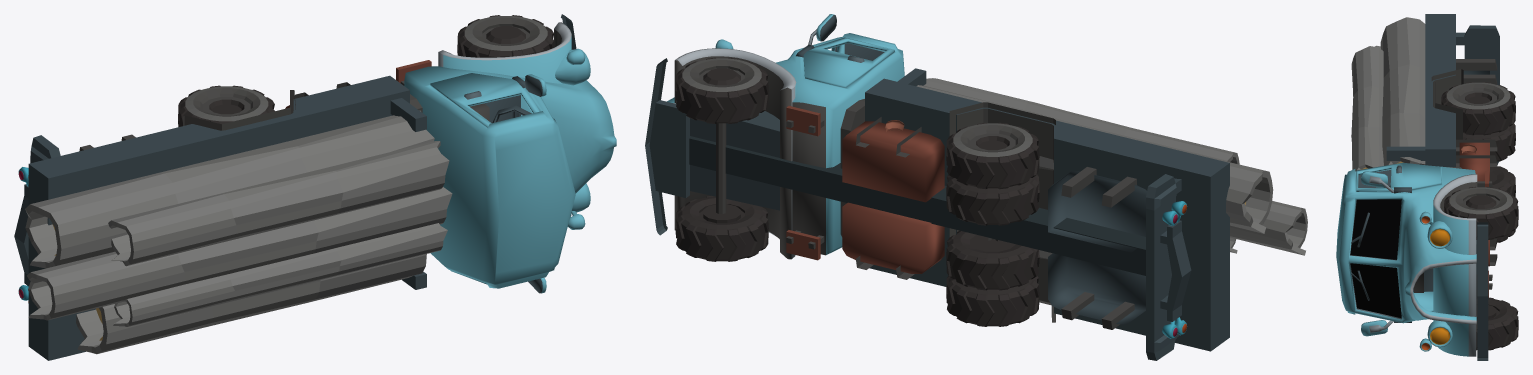
The model's file is log-truck.glb.
The picture shows the model from 3 angles, left to right: view 1: azimuth 30°, elevation 25°; view 2: azimuth 150°, elevation 25°; view 3: azimuth 270°, elevation 25°; orthographic projection. The views are drawn at different scales.
Visible parts, largest first — view 1: Truck_body.001_Metal_0, Truck_Trailler1_Rough_0, Prop2_Rough_0_log2, Prop2_Rough_0_log5, Prop2_Rough_0_log3, Prop2_Rough_0_log4, Prop2_Rough_0_log1, Truck_Wheel_Front.left.001_Rough_0, Truck_Door.left.001_Metal_0, Truck_Wheel_Back.001_Rough_0, Truck_Bumper.001_Metal_0, Truck_body.001_Rough_0 (+2 smaller); view 2: Truck_Trailler1_Rough_0, Truck_Wheel_Back.001_Rough_0, Truck_Chassy_Short.001_Rough_0, TruckModule_OilTank.001_Metal_0, Truck_Engine.001_Metal_0, Truck_body.001_Metal_0, TruckModule_Laggage.001_Metal_0, Truck_body.001_Rough_0, Truck_Bumper.001_Metal_0, Truck_Wheel_Front.right.001_Rough_0, Truck_Wheel_Front.left.001_Rough_0, Prop2_Rough_0_log5 (+7 smaller); view 3: Truck_body.001_Metal_0, Prop2_Rough_0_log2, Truck_body.001_Glass_0, Truck_Trailler1_Rough_0, Truck_Wheel_Back.001_Rough_0, Prop2_Rough_0_log5, Truck_Wheel_Front.left.001_Rough_0, Truck_body.001_Rough_0, Truck_Engine.001_Metal_0, Truck_Door.left.001_Metal_0, Truck_Wheel_Front.right.001_Rough_0, Truck_Bumper.001_Metal_0 (+9 smaller).
Part boxes in pixels (<box>): Truck_body.001_Metal_0: <box>396,22,616,293</box>; Truck_Trailler1_Rough_0: <box>28,75,426,360</box>; Prop2_Rough_0_log2: <box>25,110,434,268</box>; Prop2_Rough_0_log5: <box>108,141,449,266</box>; Prop2_Rough_0_log3: <box>27,187,452,320</box>; Prop2_Rough_0_log4: <box>113,223,447,326</box>; Prop2_Rough_0_log1: <box>76,254,426,354</box>; Truck_Wheel_Front.left.001_Rough_0: <box>457,15,554,57</box>; Truck_Door.left.001_Metal_0: <box>430,73,539,127</box>; Truck_Wheel_Back.001_Rough_0: <box>178,85,274,127</box>; Truck_Bumper.001_Metal_0: <box>14,135,60,303</box>; Truck_body.001_Rough_0: <box>470,29,561,293</box>; Truck_Trailler1_Rough_0: <box>865,68,1229,351</box>; Truck_Wheel_Back.001_Rough_0: <box>946,122,1039,326</box>; Truck_Chassy_Short.001_Rough_0: <box>689,99,1145,275</box>; TruckModule_OilTank.001_Metal_0: <box>842,121,944,273</box>; Truck_Engine.001_Metal_0: <box>645,58,779,235</box>; Truck_body.001_Metal_0: <box>667,15,904,260</box>; TruckModule_Laggage.001_Metal_0: <box>1048,171,1146,324</box>; Truck_body.001_Rough_0: <box>674,14,884,259</box>; Truck_Bumper.001_Metal_0: <box>1146,174,1191,360</box>; Truck_Wheel_Front.right.001_Rough_0: <box>675,196,768,261</box>; Truck_Wheel_Front.left.001_Rough_0: <box>675,57,768,123</box>; Prop2_Rough_0_log5: <box>924,78,1239,164</box>; Truck_body.001_Metal_0: <box>1336,166,1492,356</box>; Prop2_Rough_0_log2: <box>1380,17,1425,165</box>; Truck_body.001_Glass_0: <box>1350,199,1401,318</box>; Truck_Trailler1_Rough_0: <box>1386,14,1455,166</box>; Truck_Wheel_Back.001_Rough_0: <box>1441,82,1515,242</box>; Prop2_Rough_0_log5: <box>1351,46,1383,171</box>; Truck_Wheel_Front.left.001_Rough_0: <box>1444,186,1518,239</box>; Truck_body.001_Rough_0: <box>1351,170,1477,336</box>; Truck_Engine.001_Metal_0: <box>1476,222,1488,360</box>; Truck_Door.left.001_Metal_0: <box>1356,162,1441,191</box>; Truck_Wheel_Front.right.001_Rough_0: <box>1476,297,1518,350</box>; Truck_Bumper.001_Metal_0: <box>1456,25,1499,164</box>.
Bounding box in the file's own units: 3.3 × 1.09 × 1.1.
